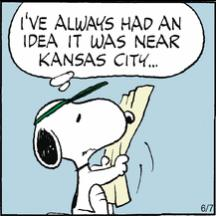snoopy: (32, 80, 156, 214)
